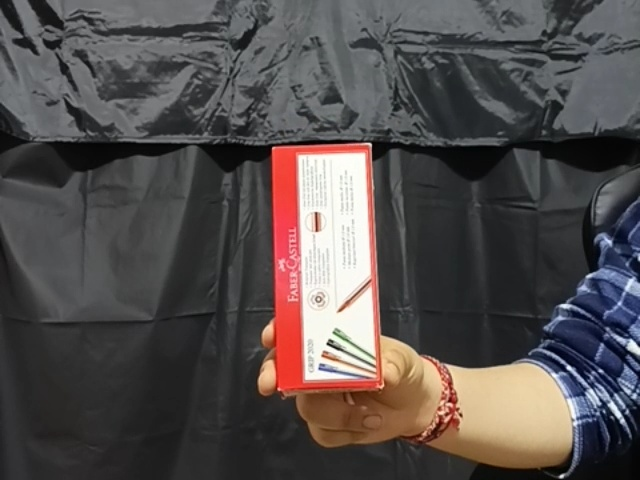xd: (268, 143, 385, 396)
